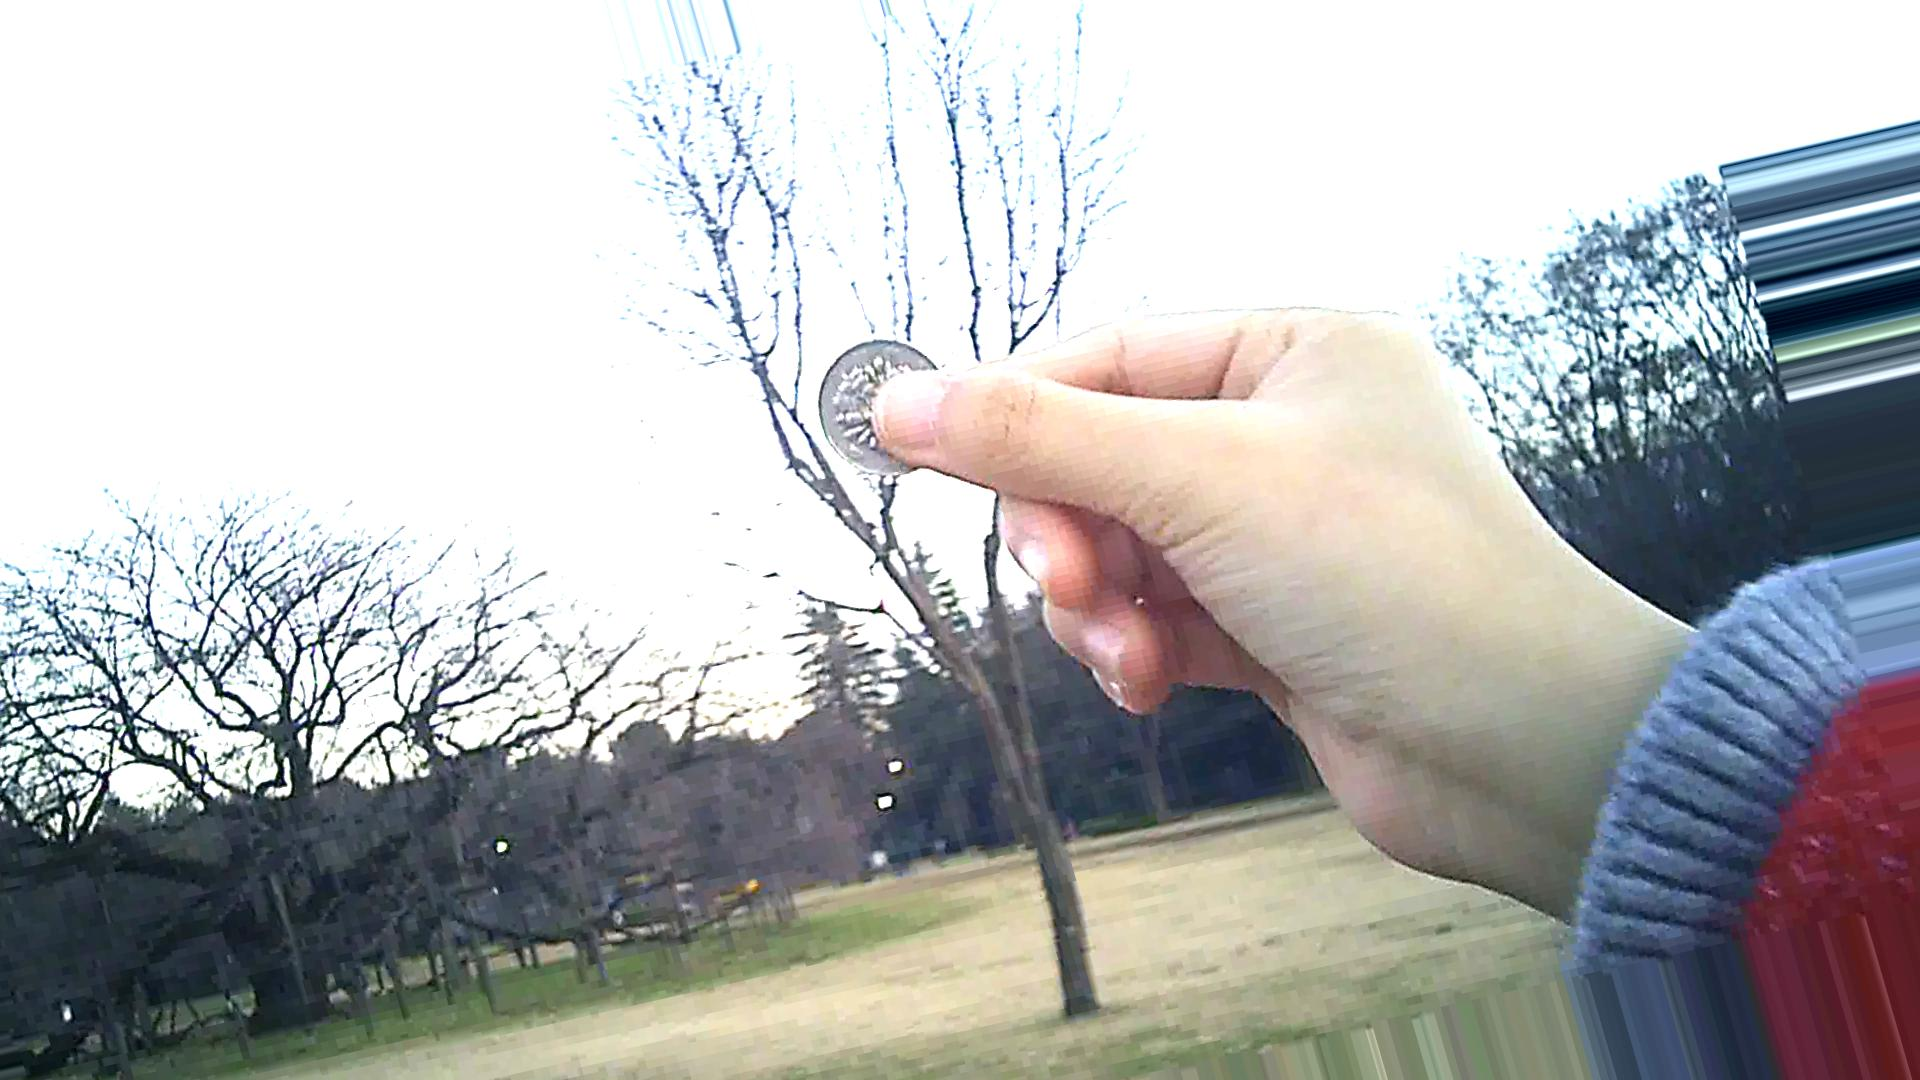100 Yen: (808, 327, 949, 483)
